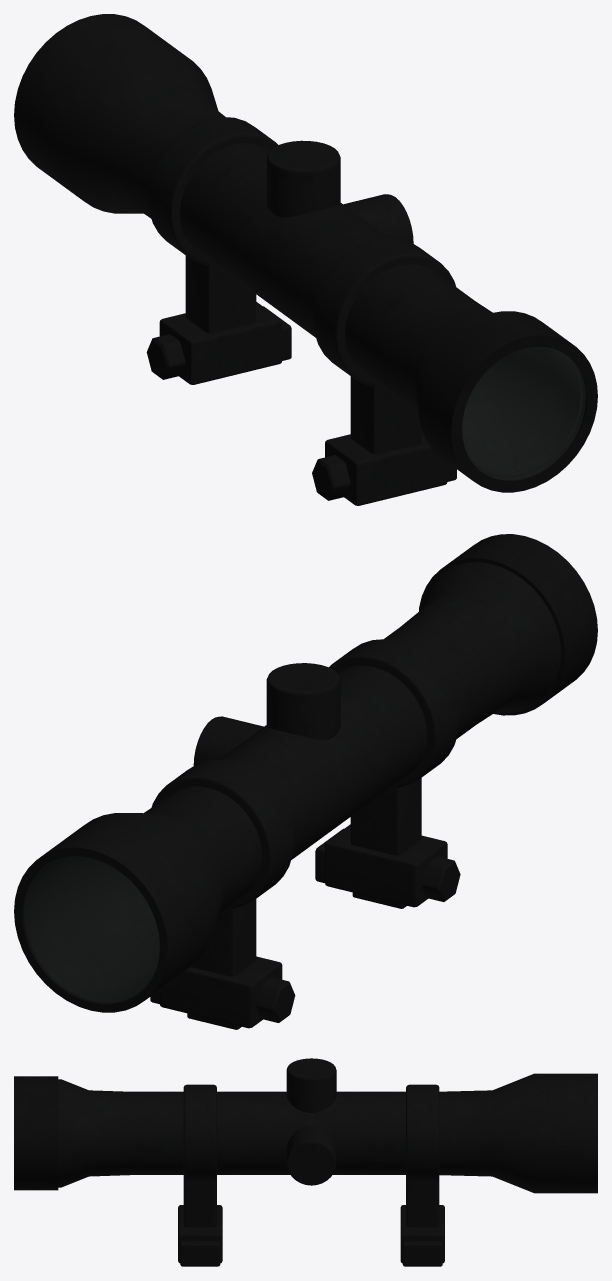
Rendered from scope.gltf.
3 views of the same model, one above another, from view 1: azimuth 30°, elevation 25°; view 2: azimuth 150°, elevation 25°; view 3: azimuth 270°, elevation 25° (orthographic). The views are drawn at different scales.
Visible parts, largest first — view 1: Body, Ocular; view 2: Body, Glass; view 3: Body.
Boxes of the visible parts, <box> form: Body: <box>14,14,597,505</box>; Ocular: <box>462,347,585,479</box>; Body: <box>14,534,597,1029</box>; Glass: <box>24,857,159,1001</box>; Body: <box>14,1058,597,1266</box>.
Size of the model in its own units: 0.0475 by 0.075 by 0.21.
Materials: 3 (2 with a texture image).
